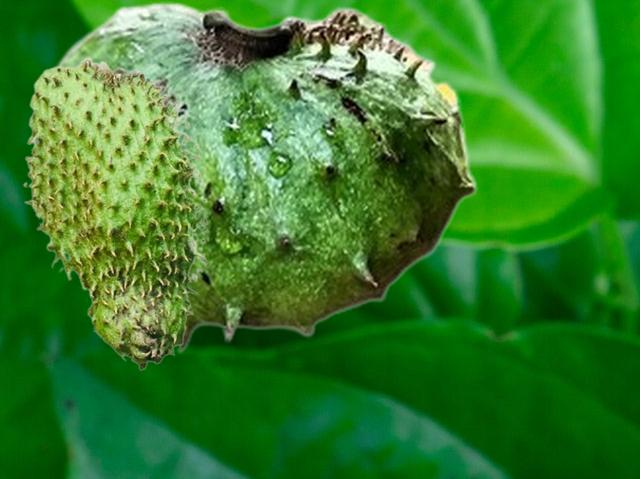guyabano: (32, 1, 477, 353), (22, 56, 210, 370)
